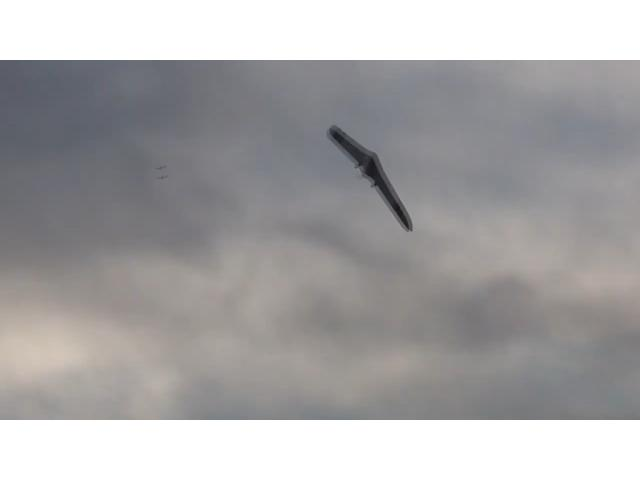Anti-Drone: (326, 125, 412, 233)
